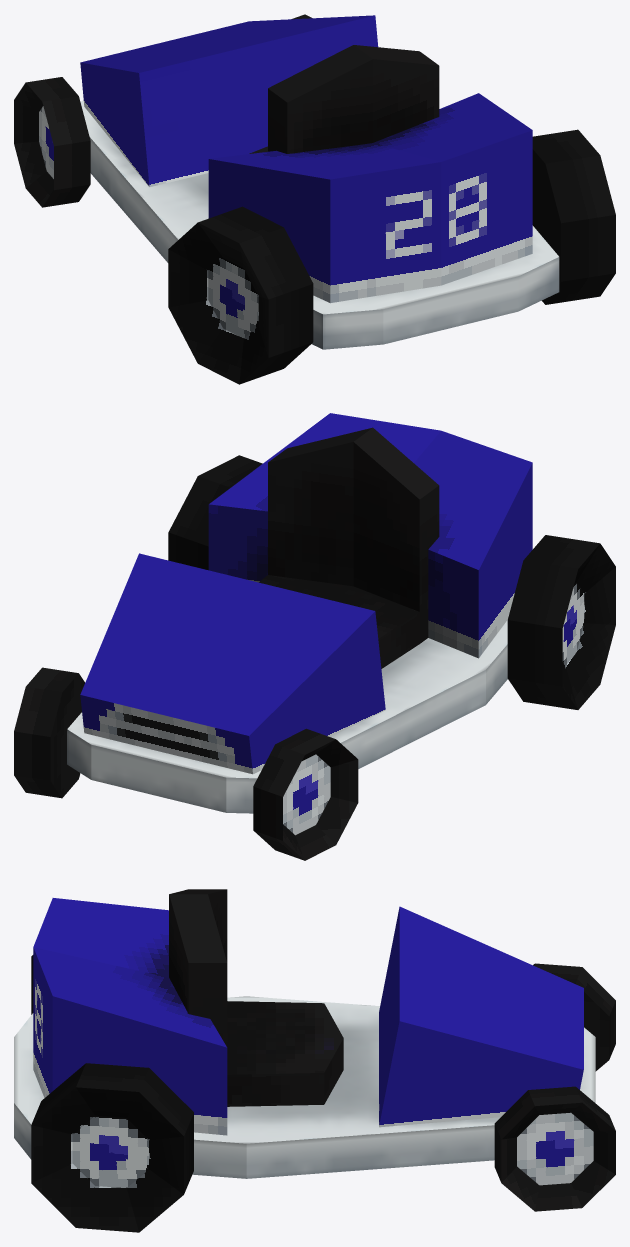
Rendered from Kart.fbx.
The picture shows the model from 3 angles, top to bottom: view 1: azimuth 30°, elevation 25°; view 2: azimuth 150°, elevation 25°; view 3: azimuth 270°, elevation 25°; orthographic projection.
Visible parts, largest first — view 1: BackKart, FrontKart, BackLeftWheel, Base, Chair, cylinder, FrontLeftWheel; view 2: FrontKart, Chair, BackKart, Base, BackLeftWheel, FrontLeftWheel, FrontRightWheel, cylinder; view 3: FrontKart, BackKart, Base, cylinder, Chair, FrontRightWheel, FrontLeftWheel.
Boxes of the visible parts, x1,y1,x2,y2 form: BackKart: (208, 93, 532, 303); FrontKart: (80, 15, 378, 187); BackLeftWheel: (168, 206, 313, 384); Base: (80, 100, 559, 349); Chair: (249, 45, 439, 153); cylinder: (532, 129, 615, 304); FrontLeftWheel: (14, 77, 90, 207); FrontKart: (80, 553, 385, 774); Chair: (259, 427, 439, 668); BackKart: (208, 413, 532, 658); Base: (67, 620, 507, 813); BackLeftWheel: (507, 535, 615, 709); FrontLeftWheel: (253, 728, 358, 860); FrontRightWheel: (14, 667, 84, 798); cylinder: (168, 455, 262, 570); FrontKart: (379, 906, 583, 1127); BackKart: (33, 898, 227, 1135); Base: (14, 996, 595, 1178); cylinder: (31, 1063, 193, 1232); Chair: (169, 889, 343, 1106); FrontRightWheel: (494, 1086, 615, 1211); FrontLeftWheel: (533, 963, 615, 1071).
Size of the model in its own units: 146 by 87.5 by 194.
Materials: 6 (6 with a texture image).
